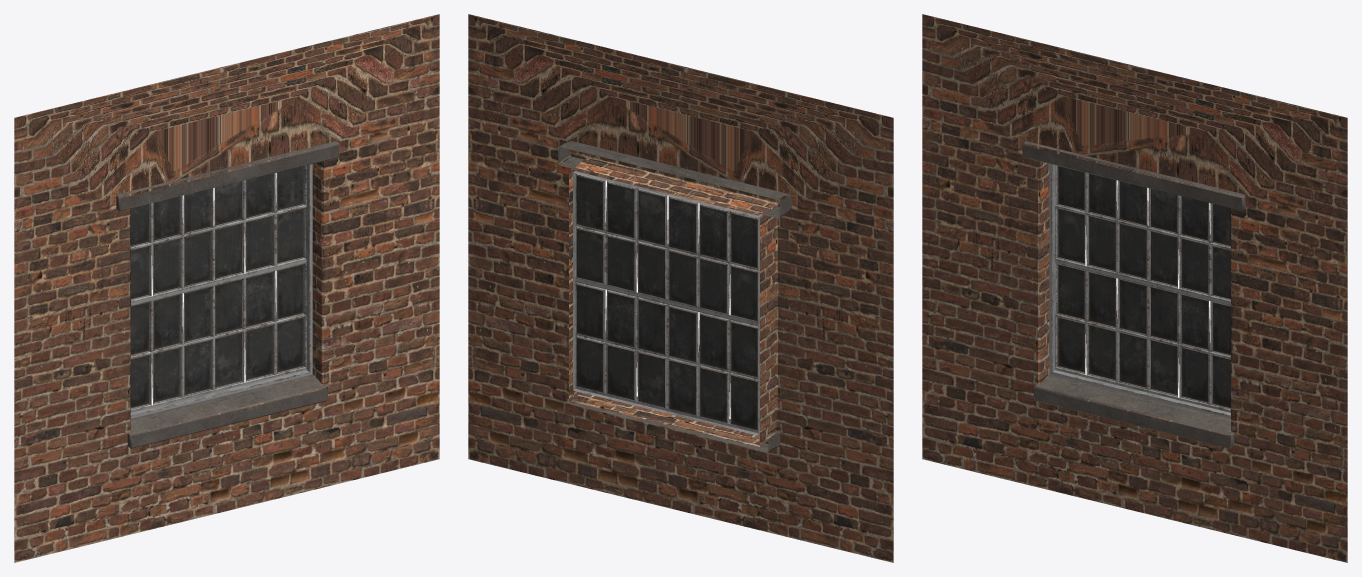
The model's file is bay_window_c.gltf.
3 renders of one model, left to right at view 1: azimuth 30°, elevation 25°; view 2: azimuth 150°, elevation 25°; view 3: azimuth 330°, elevation 25°, orthographic.
Visible parts, largest first — view 1: bay_window_c; view 2: bay_window_c; view 3: bay_window_c.
Part boxes in pixels (x1,y1,x2,y2): bay_window_c: (14, 14, 439, 562); bay_window_c: (468, 14, 893, 562); bay_window_c: (922, 14, 1347, 562).
Bounding box in the file's own units: 3 × 3 × 0.23.
3 materials, 3 textured.
